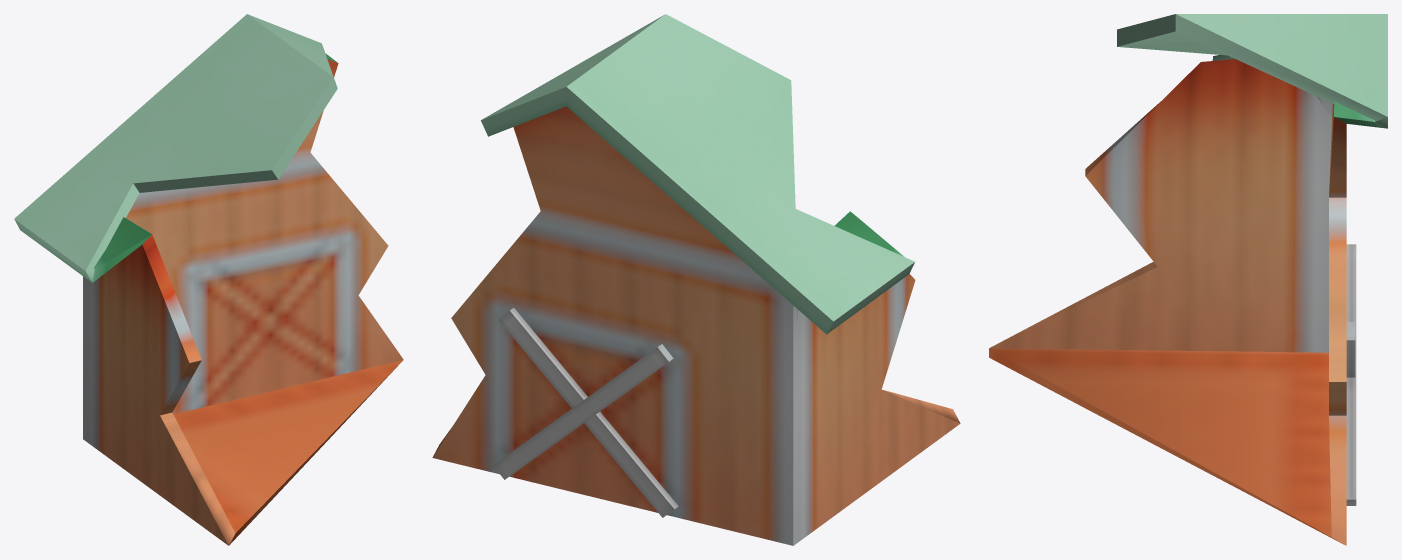
File: B4Broke05.FBX
The picture shows the model from 3 angles, left to right: view 1: azimuth 30°, elevation 25°; view 2: azimuth 150°, elevation 25°; view 3: azimuth 270°, elevation 25°; orthographic projection. The views are drawn at different scales.
Parts seen in each view (by area): view 1: B4Broke05; view 2: B4Broke05; view 3: B4Broke05.
Part boxes in pixels (x1,y1,x2,y2): B4Broke05: (14,14,403,545); B4Broke05: (432,14,960,545); B4Broke05: (989,14,1387,545).
Size of the model in its own units: 56.72 by 54.49 by 43.59.
